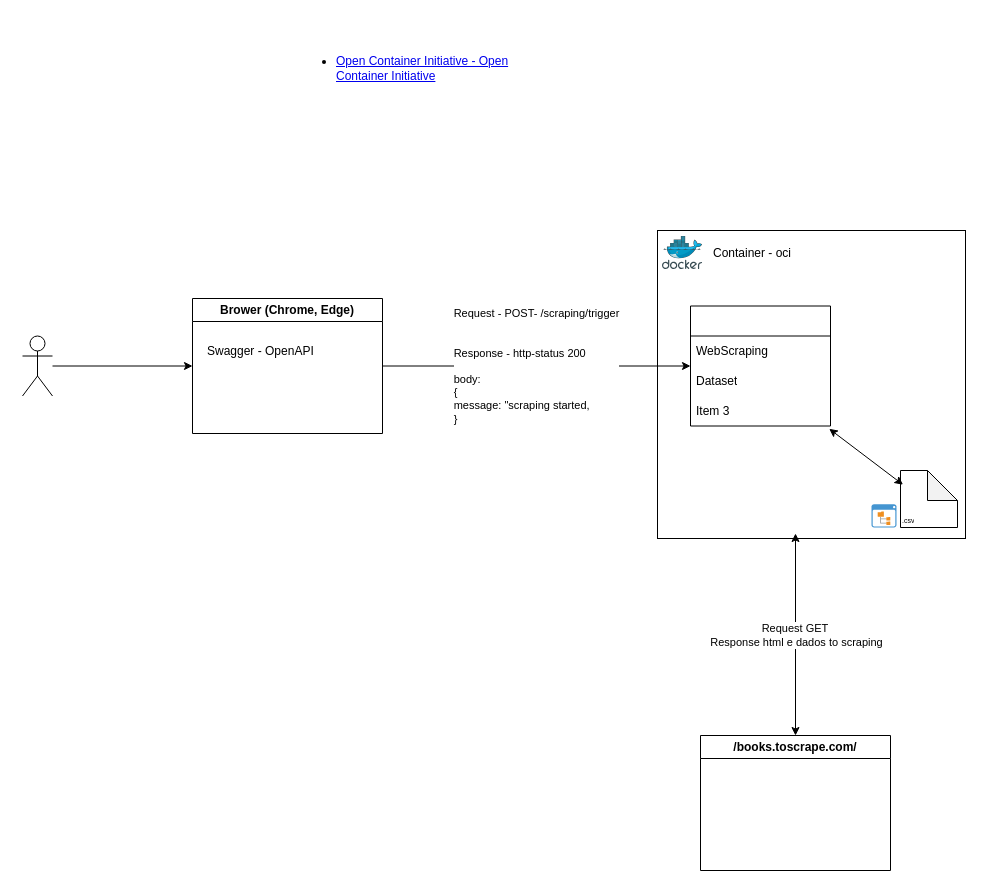
The diagram is 983 pixels wide and 888 high, and some of its shapes have lost their labels. The shapes that lost their labels are listed below. From the top down, each one's box as (x1, y1, x2, y2) in pixels, then its label:
(22, 335, 52, 396): U suário
(690, 305, 830, 426): FastAPI - Python
